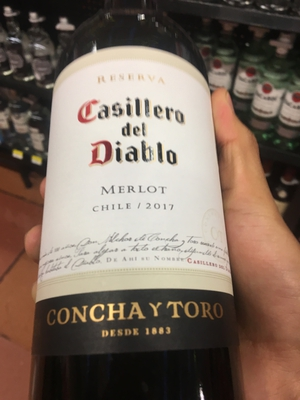casillero del diablo merlot: (28, 10, 247, 395)
